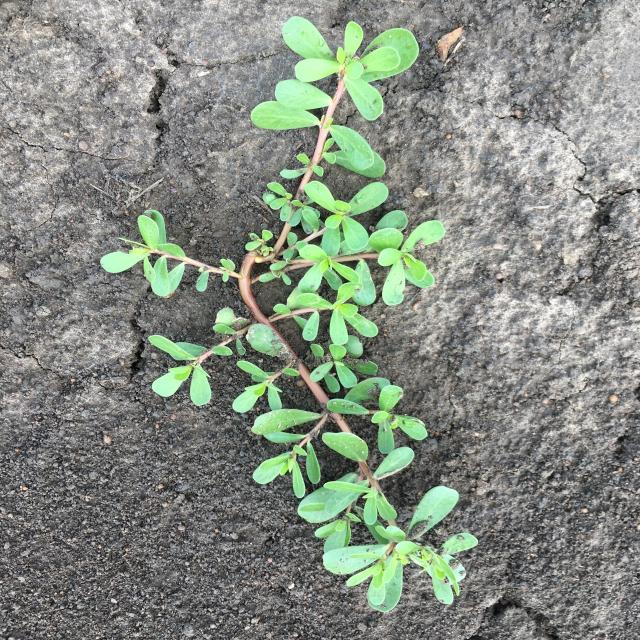Purslane: (100, 16, 479, 613)
